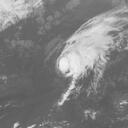cyclone: (56, 43, 90, 81)
